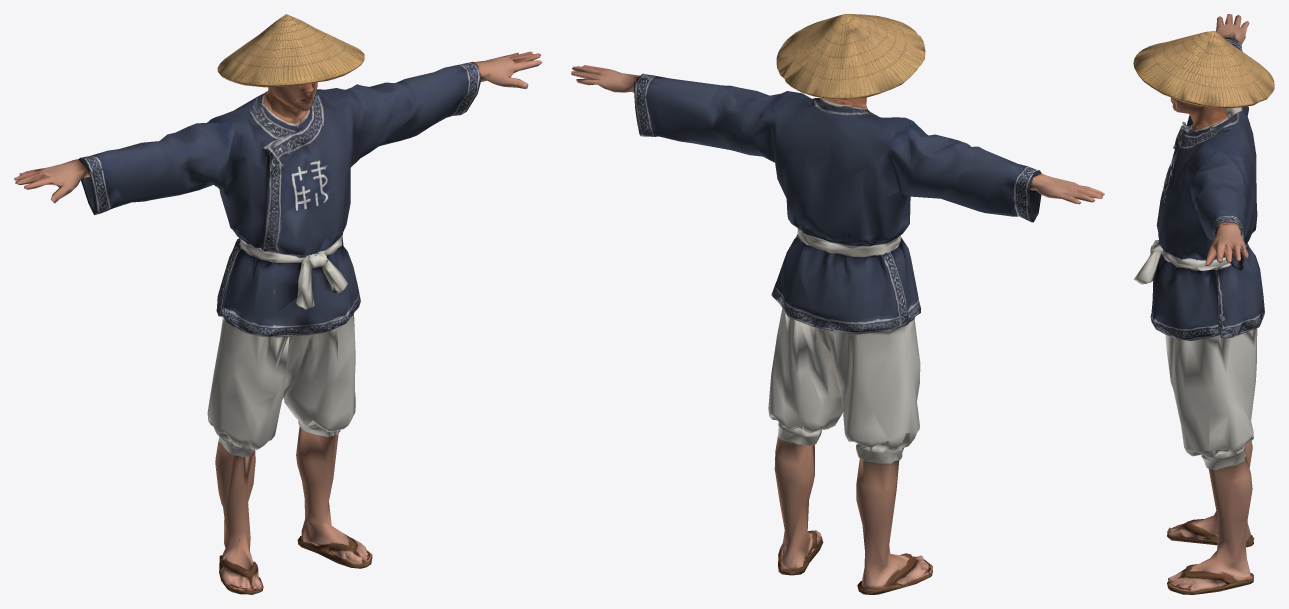
File: guard-2.glb
3 views of the same model, side by side, from view 1: azimuth 30°, elevation 25°; view 2: azimuth 150°, elevation 25°; view 3: azimuth 270°, elevation 25° (orthographic). The views are drawn at different scales.
Parts seen in each view (by area): view 1: tripo_node_70b75c9b-f2a9-43de-912a-777d11dea816; view 2: tripo_node_70b75c9b-f2a9-43de-912a-777d11dea816; view 3: tripo_node_70b75c9b-f2a9-43de-912a-777d11dea816.
Part boxes in pixels (box(x1,y1,x2,y2)): tripo_node_70b75c9b-f2a9-43de-912a-777d11dea816: box(14, 14, 542, 594); tripo_node_70b75c9b-f2a9-43de-912a-777d11dea816: box(571, 14, 1104, 594); tripo_node_70b75c9b-f2a9-43de-912a-777d11dea816: box(1133, 14, 1274, 594).
Bounding box in the file's own units: 0.9789 × 0.9786 × 0.2358.
1 material, 1 textured.
